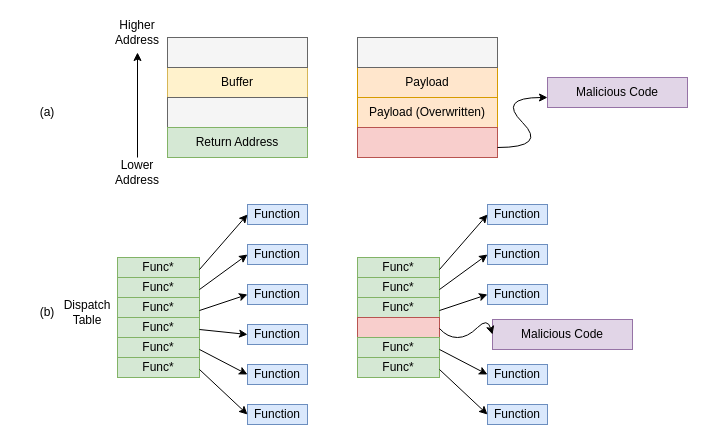
Some shapes in this 705 by 442 pixel diagram are drawn without their labels. Each missing label, with the centre of its shape:
"Attacker-Injected Address" goes at (x=427, y=142).
"Injected Addr" goes at (x=398, y=327).
